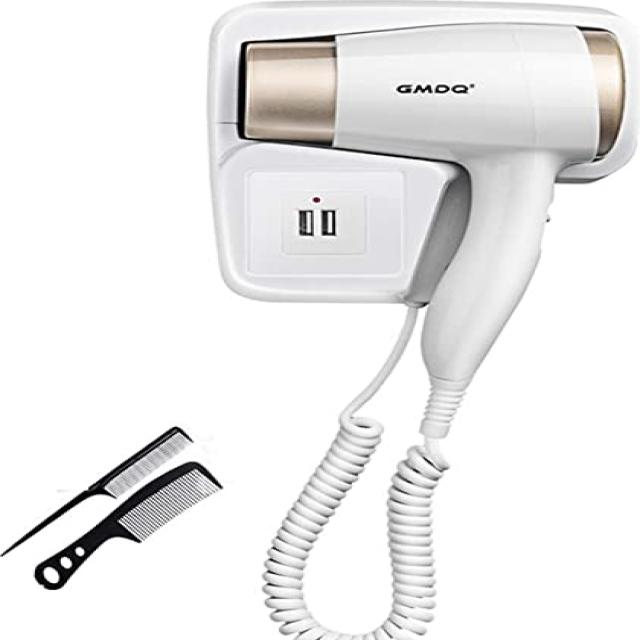dryer: (184, 0, 631, 638), (189, 3, 635, 459)
